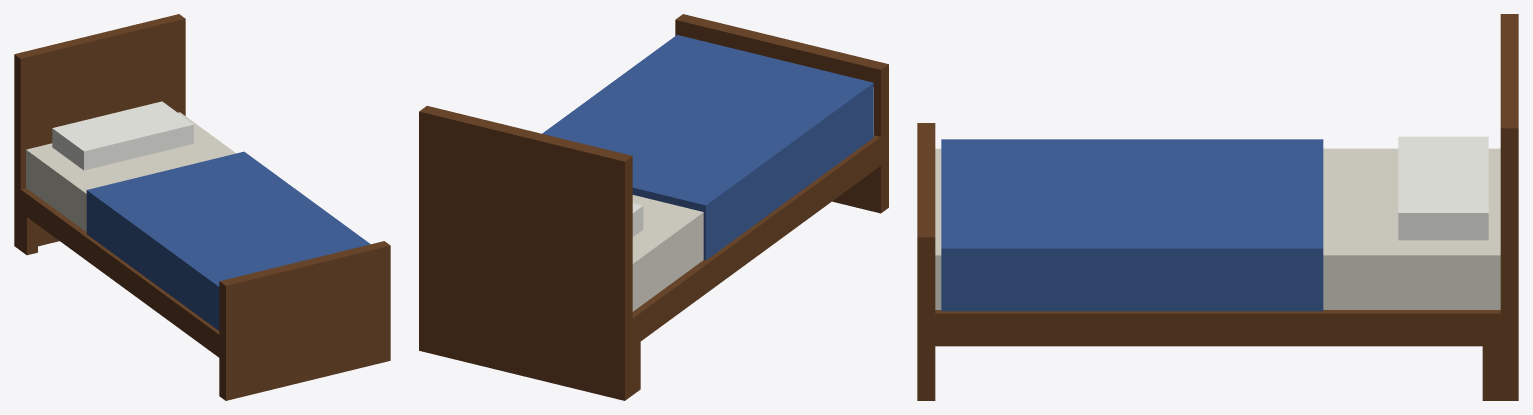
Rendered from bed.obj.
The picture shows the model from 3 angles, left to right: view 1: azimuth 30°, elevation 25°; view 2: azimuth 150°, elevation 25°; view 3: azimuth 270°, elevation 25°; orthographic projection. The views are drawn at different scales.
Bounding box in the file's own units: 0.9 × 1 × 2.
